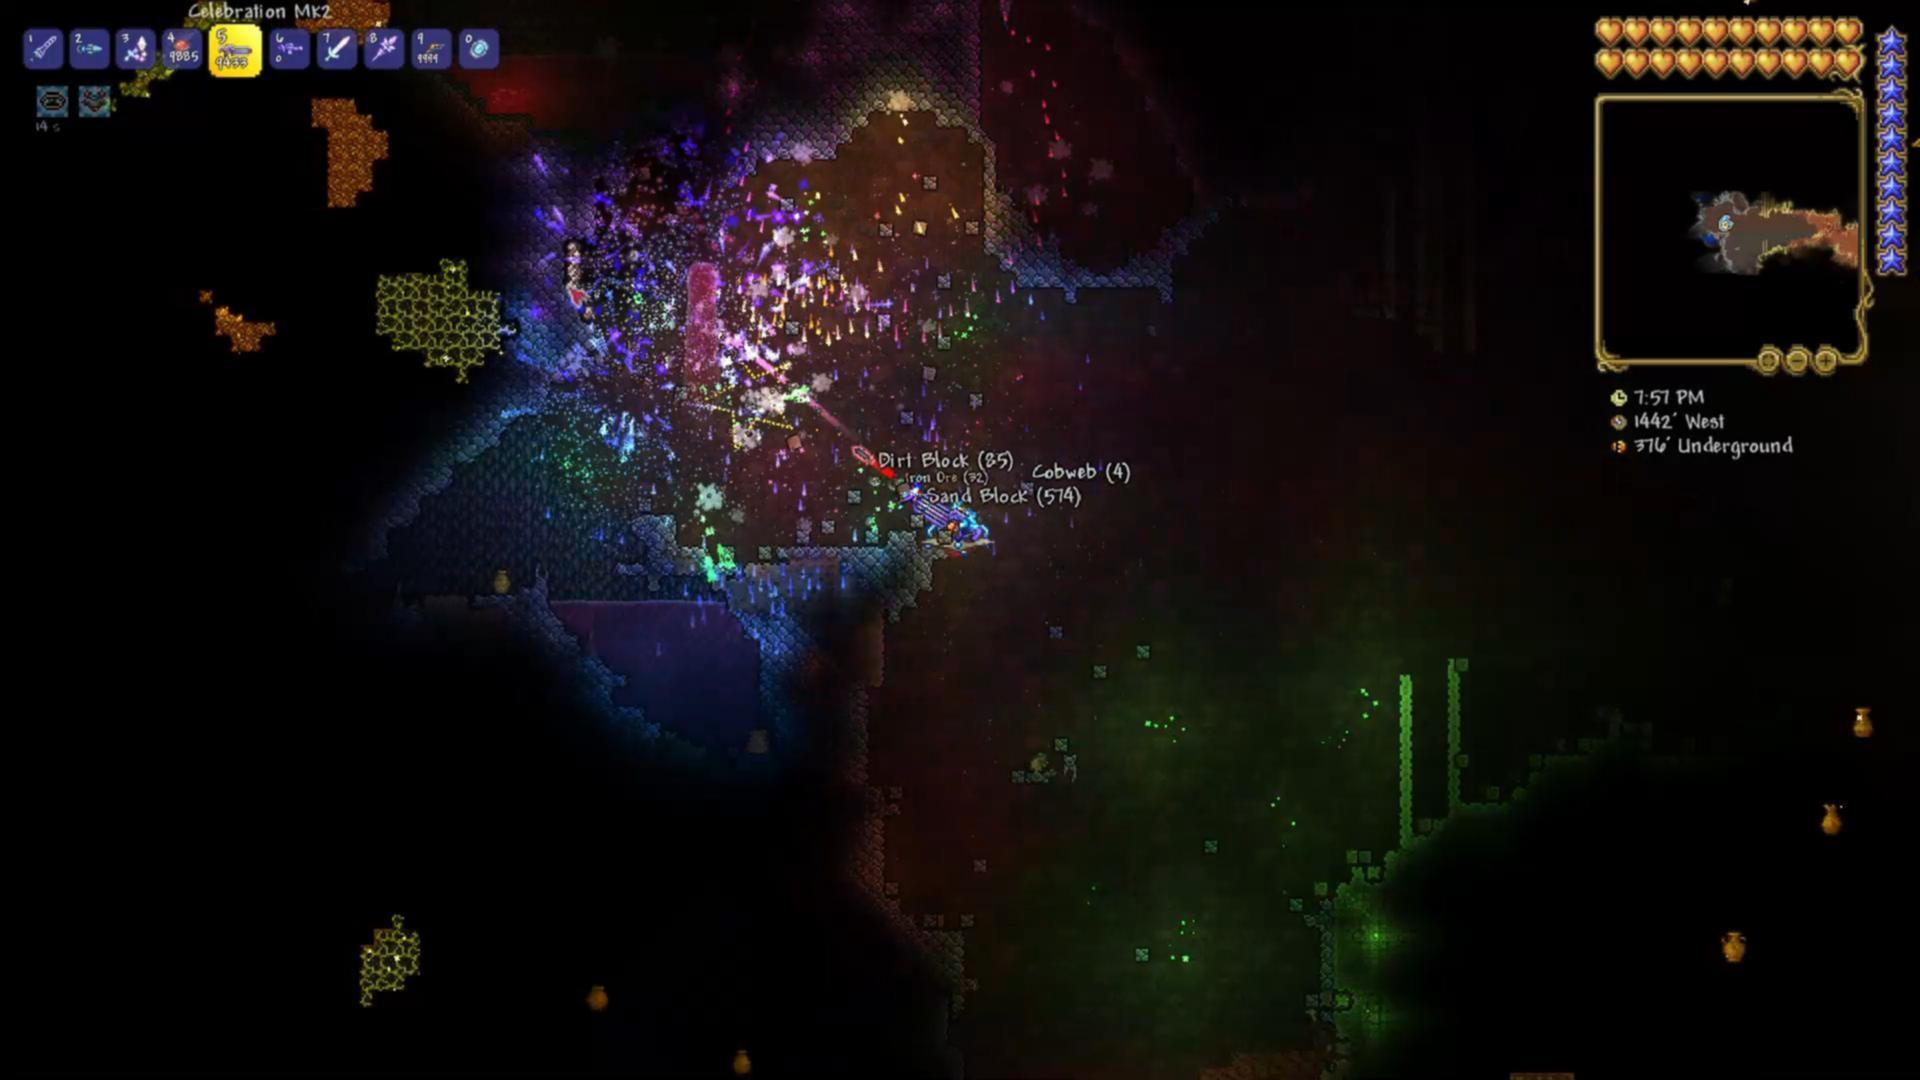altar: (484, 80, 537, 115)
pot: (585, 978, 612, 1010), (491, 563, 514, 597), (731, 1047, 752, 1076)
